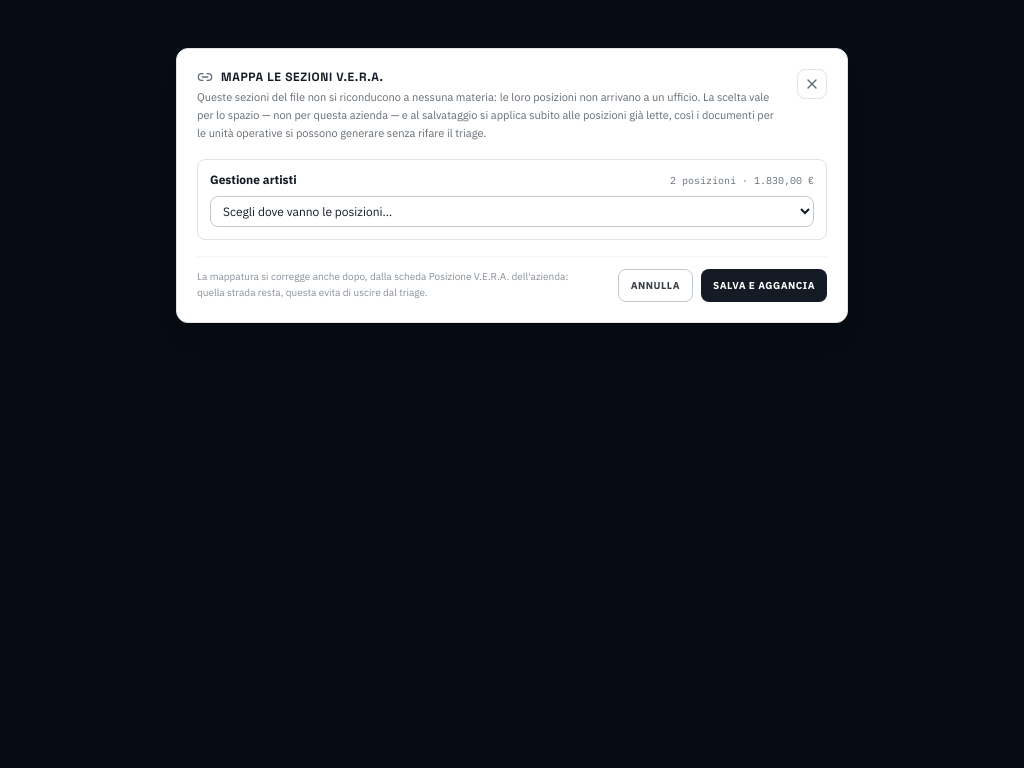
Scenario: mappatura delle sezioni V.E.R.A. › un salvataggio rifiutato dal server non chiude la finestra
Select "Contributi INPS" in the dropdown named "Destinazione di Gestione artisti": coordinates (512, 211) [210,196,814,227]
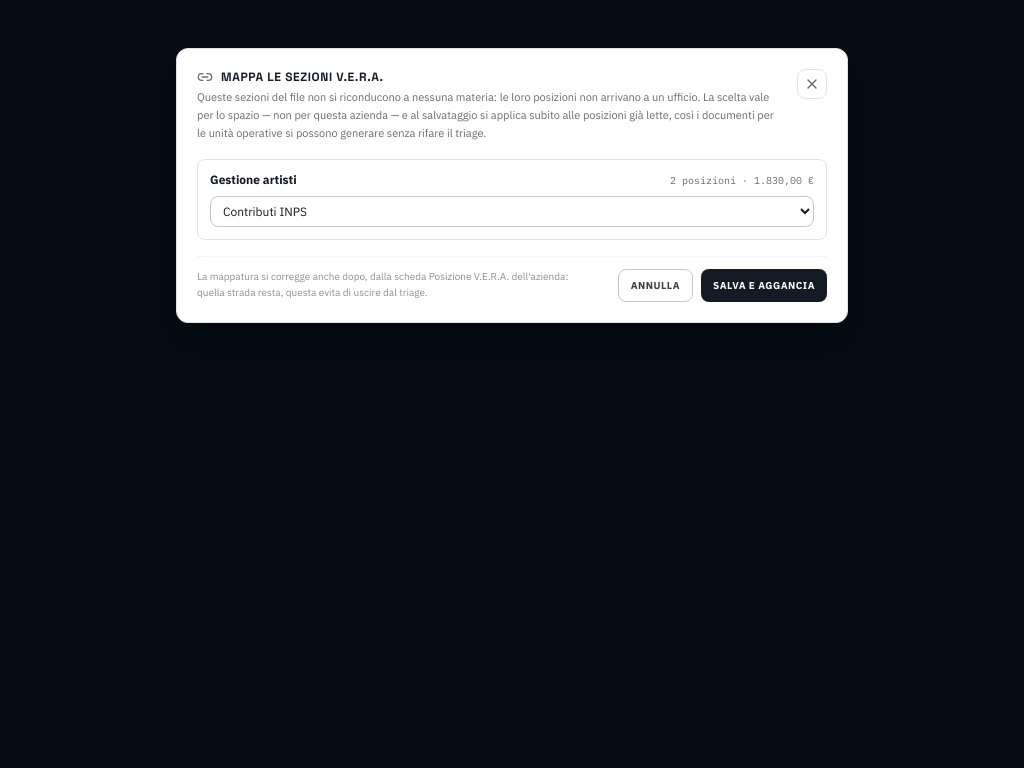
Click the button "Salva e aggancia": coordinates (764, 285) [701,269,827,302]
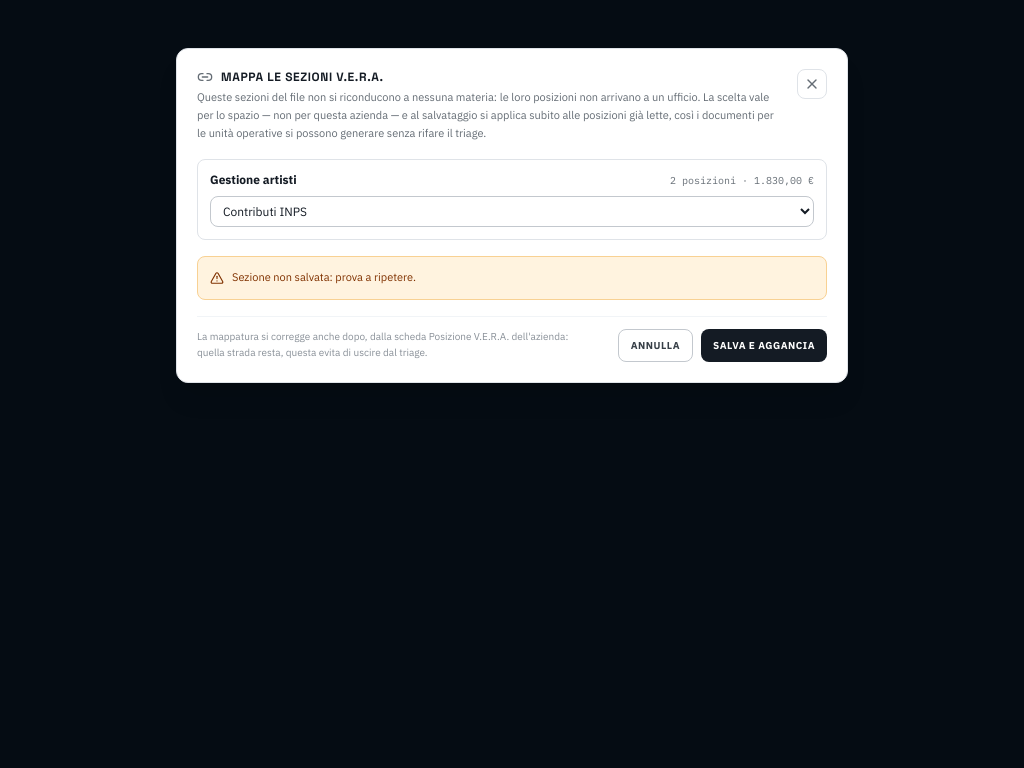
Expected: the text "Sezione non salvata: prova a ripetere." is shown, [197,256,827,300]
